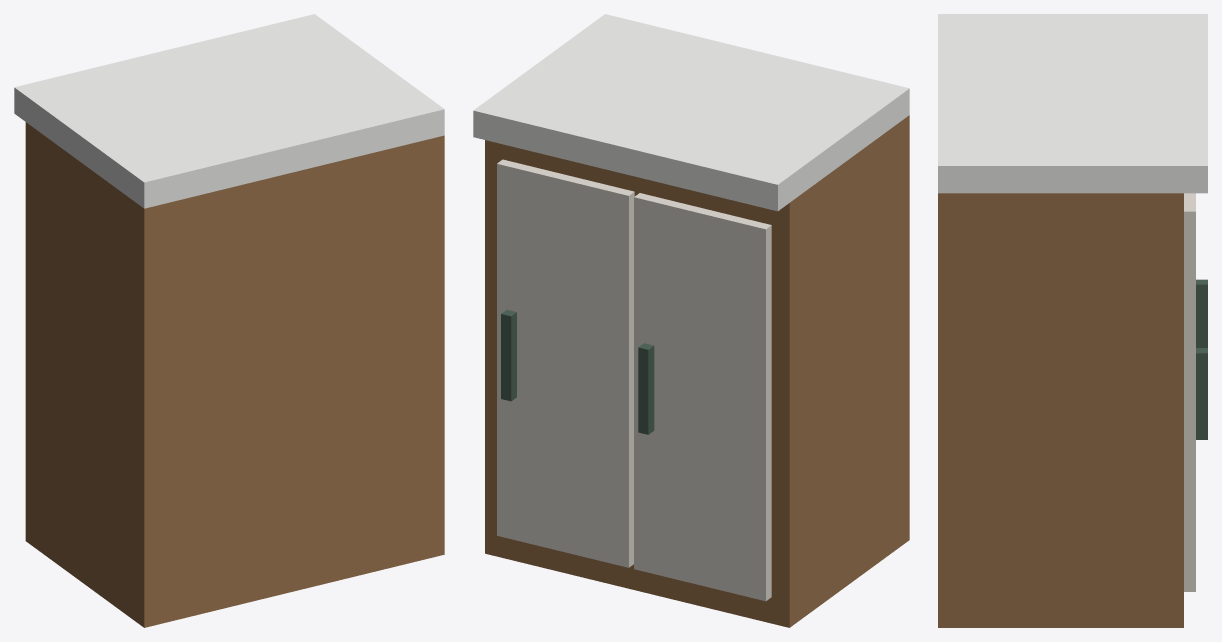
The picture shows the model from 3 angles, left to right: view 1: azimuth 30°, elevation 25°; view 2: azimuth 150°, elevation 25°; view 3: azimuth 270°, elevation 25°; orthographic projection. The views are drawn at different scales.
Parts seen in each view (by area): view 1: body, counter; view 2: body, counter, door-0, door-1, handle-0, handle-1; view 3: body, counter, door-1, handle-1, handle-0.
Part boxes in pixels (x1,y1,x2,y2): body: [25, 122, 444, 627]; counter: [14, 14, 444, 208]; body: [485, 115, 909, 627]; counter: [473, 14, 909, 211]; door-0: [634, 193, 771, 601]; door-1: [497, 159, 634, 567]; handle-0: [638, 343, 654, 434]; handle-1: [501, 309, 516, 401]; body: [938, 193, 1183, 627]; counter: [938, 14, 1207, 193]; door-1: [1184, 193, 1195, 591]; handle-1: [1196, 348, 1207, 439]; handle-0: [1196, 279, 1207, 347].
Bounding box in the file's own units: 0.6 × 0.85 × 0.45.
